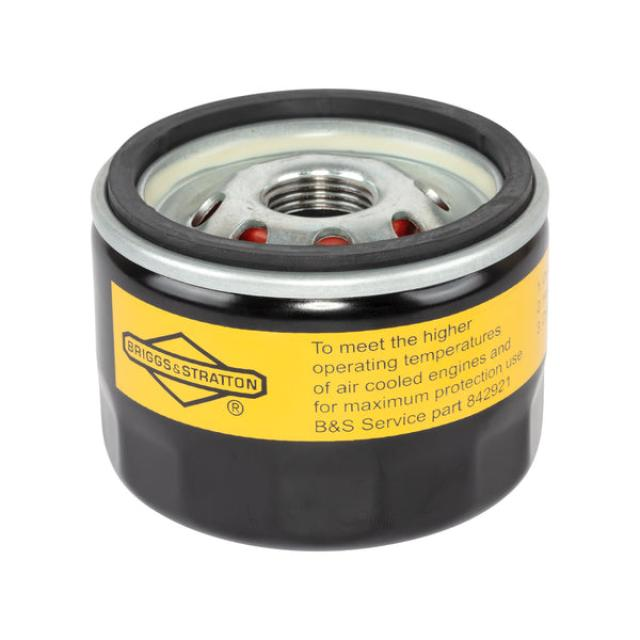oil_filter: (72, 81, 558, 555)
